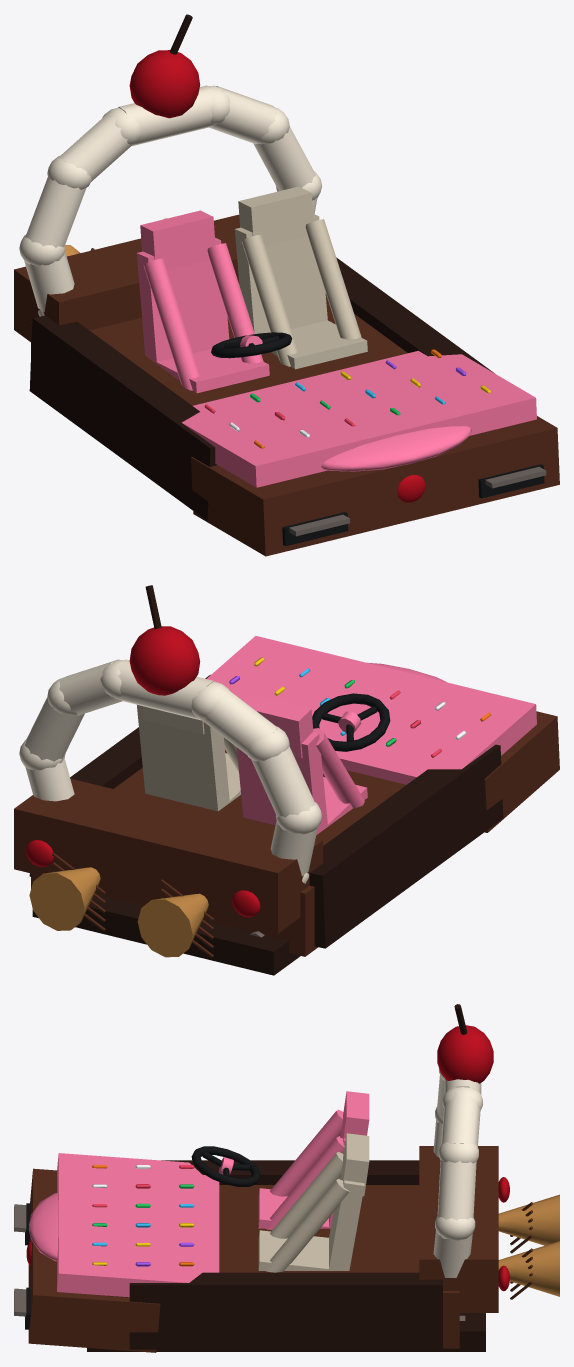
File: A024-08-dessert-original-materials-taken-actor-runtime-v2.glb
3 views of the same model, one above another, from view 1: azimuth 30°, elevation 25°; view 2: azimuth 150°, elevation 25°; view 3: azimuth 270°, elevation 25° (orthographic). The views are drawn at different scales.
Parts seen in each view (by area): view 1: LP14_Body_Part_01; view 2: LP14_Body_Part_01; view 3: LP14_Body_Part_01.
Part boxes in pixels (box(x1,y1,x2,y2)): LP14_Body_Part_01: box(14, 14, 559, 556); LP14_Body_Part_01: box(14, 585, 559, 975); LP14_Body_Part_01: box(14, 1004, 559, 1352).
Size of the model in its own units: 0.5511 by 0.6133 by 1.
